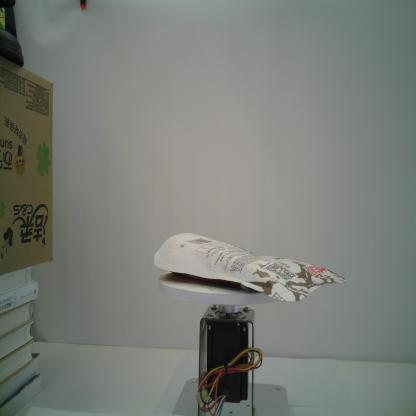Dried Fruit: (154, 233, 348, 303)
